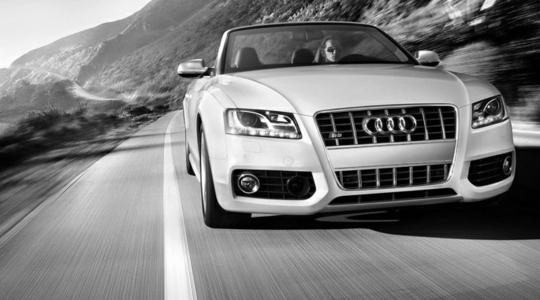car: (180, 22, 519, 229)
